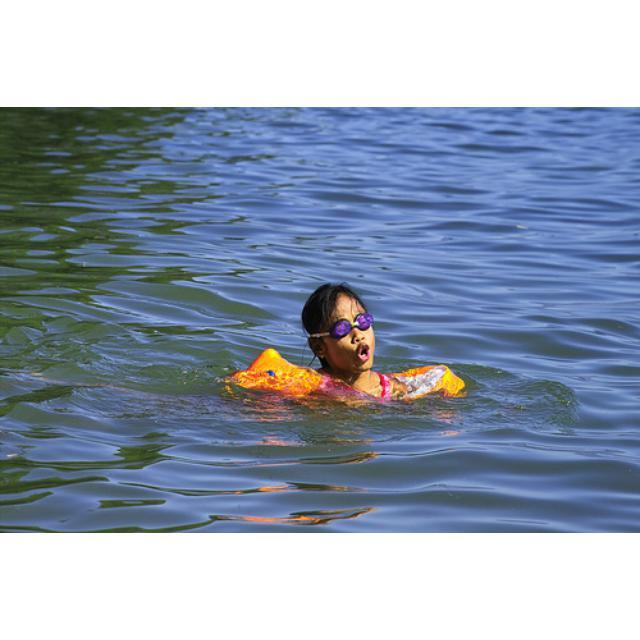human: (279, 281, 415, 403)
